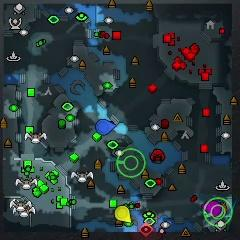p1: (95, 119, 116, 135)
p3: (202, 200, 220, 216)
p4: (115, 205, 131, 224)
